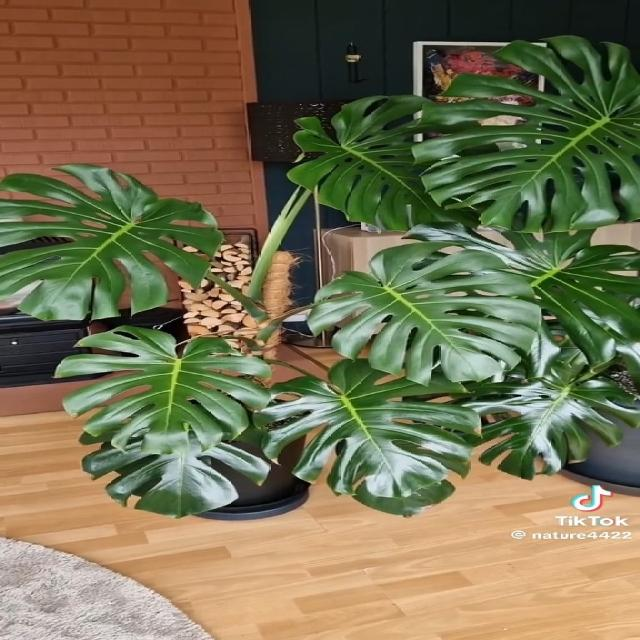roslina_zdrowa: (0, 35, 640, 518)
